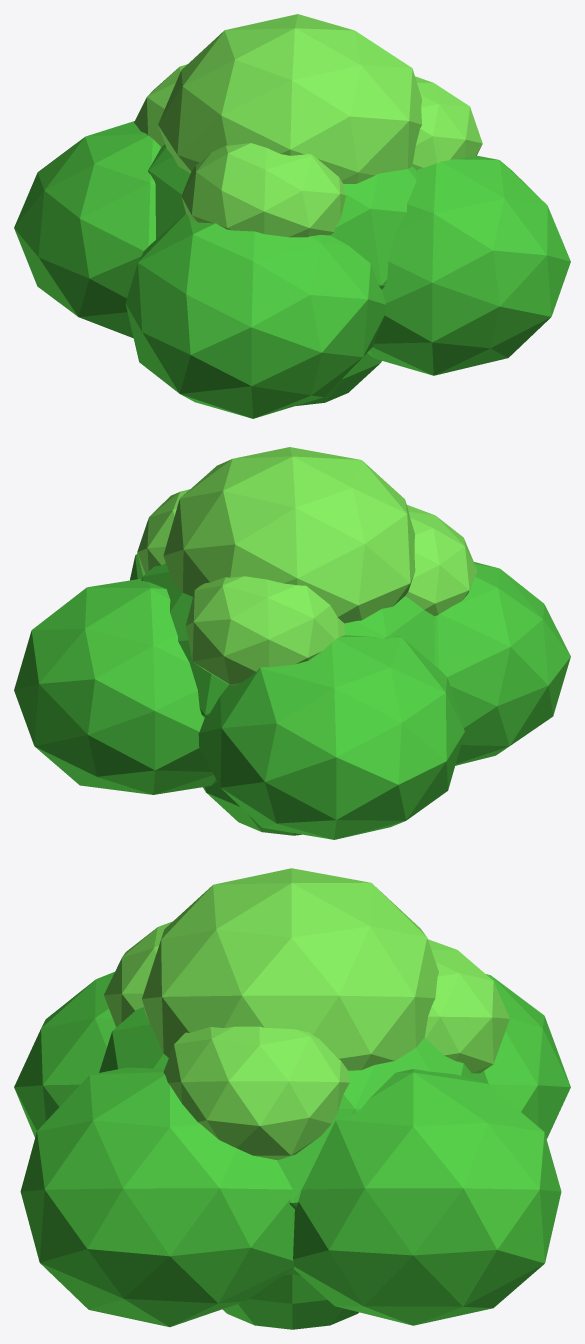
The model's file is CloverLeaves.glb.
3 views of the same model, one above another, from view 1: azimuth 30°, elevation 25°; view 2: azimuth 150°, elevation 25°; view 3: azimuth 270°, elevation 25° (orthographic). The views are drawn at different scales.
Visible parts, largest first — view 1: CloverLeaves_Foliage, CloverLeaves_FoliageLight; view 2: CloverLeaves_Foliage, CloverLeaves_FoliageLight; view 3: CloverLeaves_Foliage, CloverLeaves_FoliageLight.
Part boxes in pixels (<box>): CloverLeaves_Foliage: <box>14,121,570,418</box>; CloverLeaves_FoliageLight: <box>134,14,482,237</box>; CloverLeaves_Foliage: <box>14,553,570,839</box>; CloverLeaves_FoliageLight: <box>137,447,477,686</box>; CloverLeaves_Foliage: <box>14,972,570,1329</box>; CloverLeaves_FoliageLight: <box>104,868,509,1159</box>.
Bounding box in the file's own units: 3.4 × 2.8 × 3.4.
